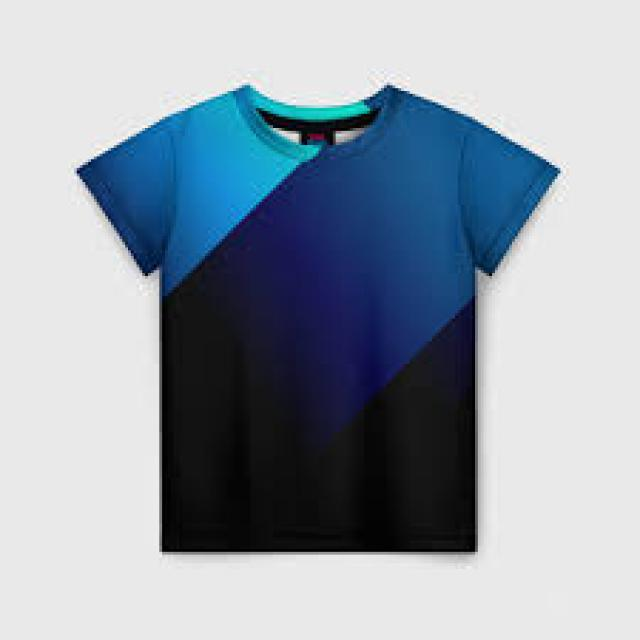Shirt: (62, 76, 574, 562)
